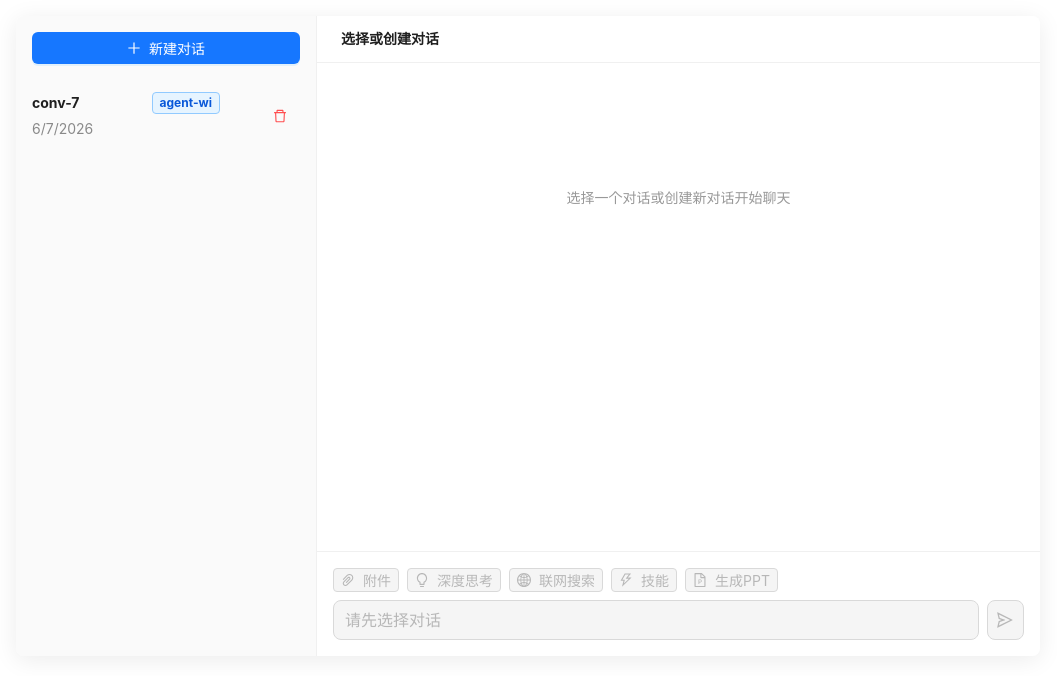
Test: ChatPage AgentKBBanner (M21 T19) › shows KB banner on conversation bound to a KB-having agent
The width and height of the screenshot is (1057, 676).
What coordinates should you click on to do the following:
click the text "conv-7"
I would click on:
 (56, 102)
Its box is 32,94 -> 79,111.
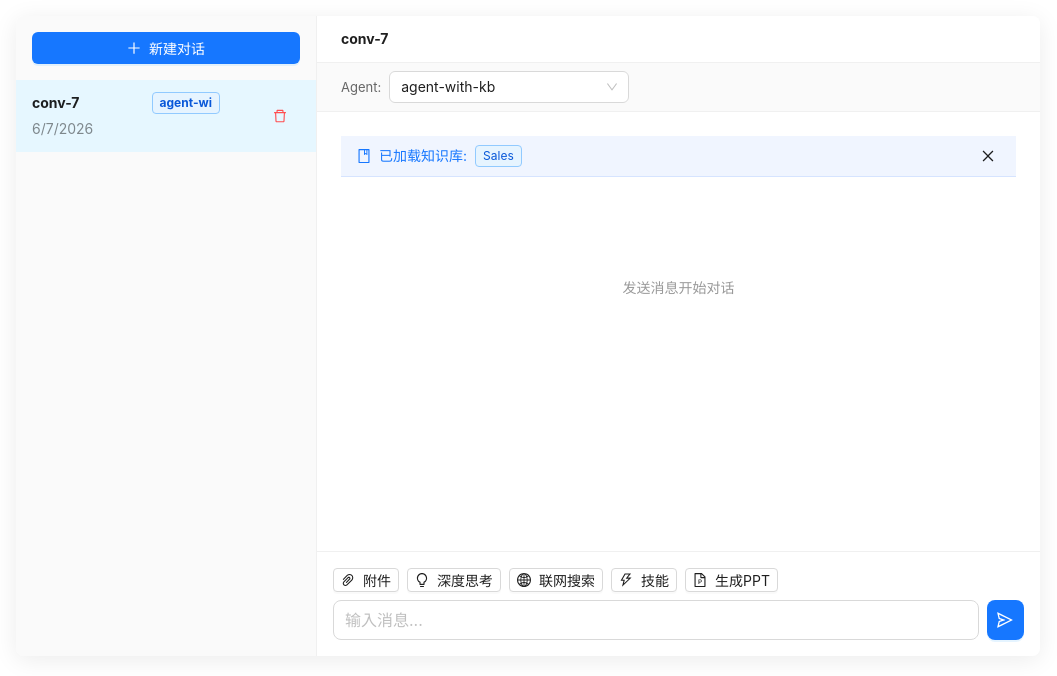
Now the text "Sales" is shown, box 475,145 -> 522,167
Now the text "已加载知识库:" is shown, box 379,145 -> 467,167
